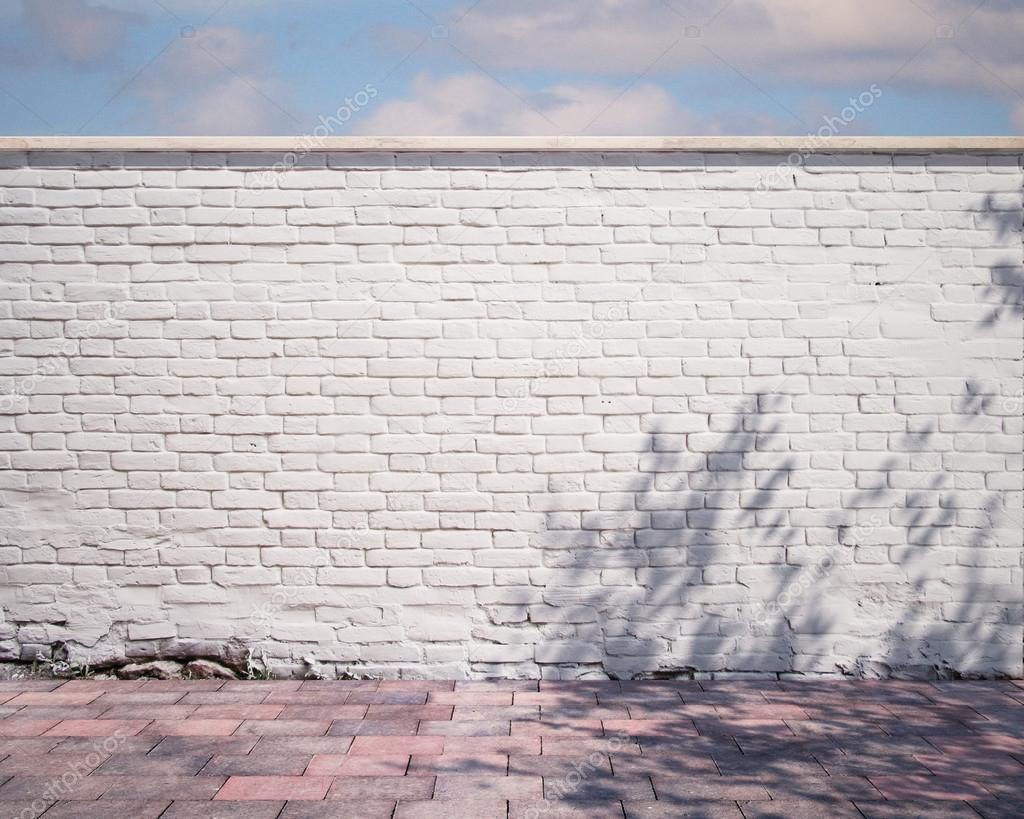Wall: (17, 155, 1011, 673)
